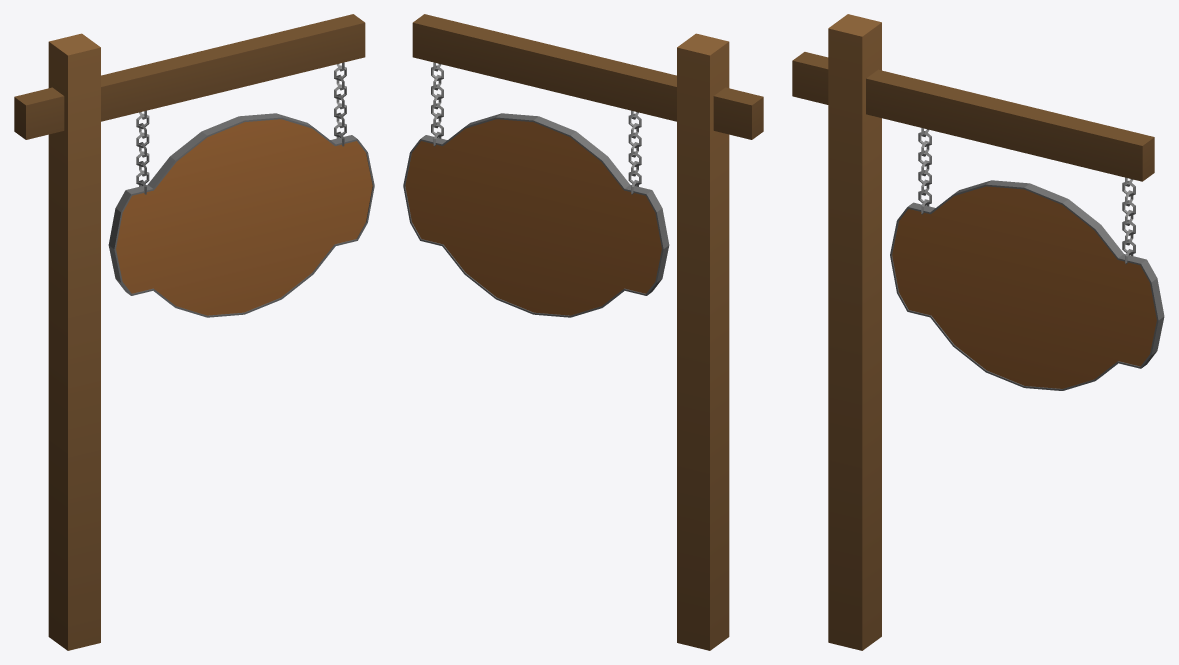
The model's file is Bld_Farm_Sign_02.obj.
3 views of the same model, side by side, from view 1: azimuth 30°, elevation 25°; view 2: azimuth 150°, elevation 25°; view 3: azimuth 330°, elevation 25° (orthographic). The views are drawn at different scales.
Visible parts, largest first — view 1: Bld_Farm_Sign_02; view 2: Bld_Farm_Sign_02; view 3: Bld_Farm_Sign_02.
Boxes of the visible parts, x1,y1,x2,y2 form: Bld_Farm_Sign_02: [14, 14, 374, 650]; Bld_Farm_Sign_02: [403, 14, 763, 650]; Bld_Farm_Sign_02: [792, 14, 1164, 650].
Bounding box in the file's own units: 1.27 × 2.05 × 0.1195.
1 material, 1 textured.
